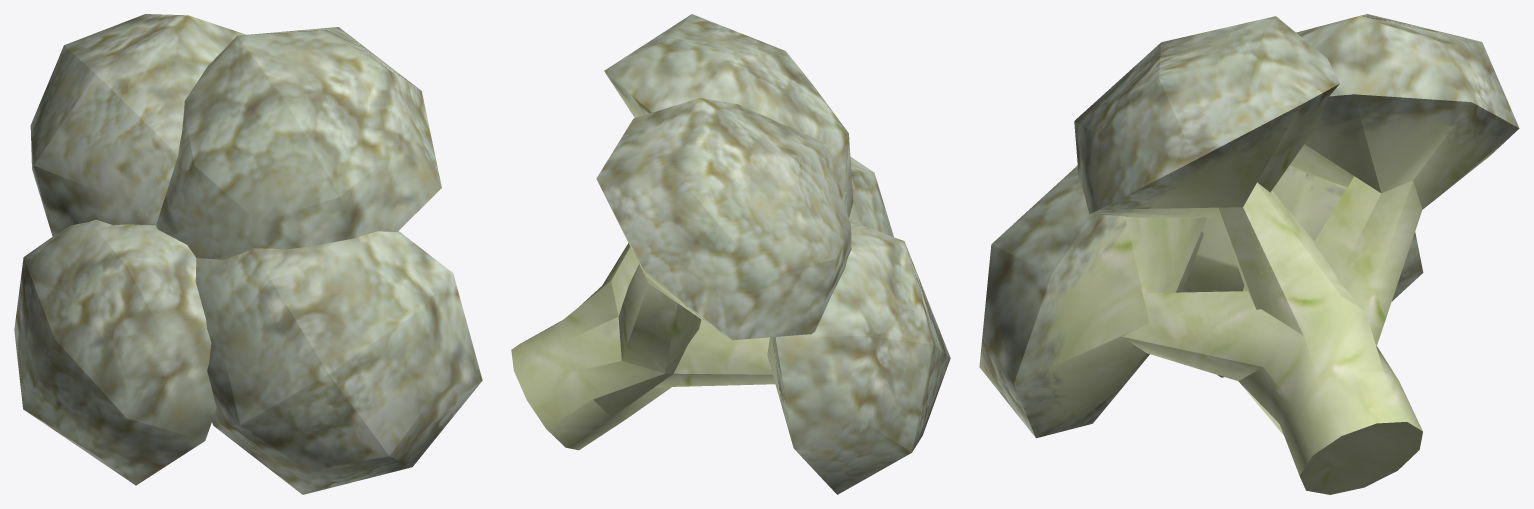
The model's file is Brocolli-1.fbx.
The picture shows the model from 3 angles, left to right: view 1: azimuth 30°, elevation 25°; view 2: azimuth 150°, elevation 25°; view 3: azimuth 270°, elevation 25°; orthographic projection. The views are drawn at different scales.
Visible parts, largest first — view 1: Brocolli; view 2: Brocolli; view 3: Brocolli.
Boxes of the visible parts, x1=… form: Brocolli: x1=14, y1=14, x2=482, y2=494; Brocolli: x1=511, y1=14, x2=950, y2=494; Brocolli: x1=979, y1=14, x2=1519, y2=494.
Size of the model in its own units: 730 by 736 by 843.
